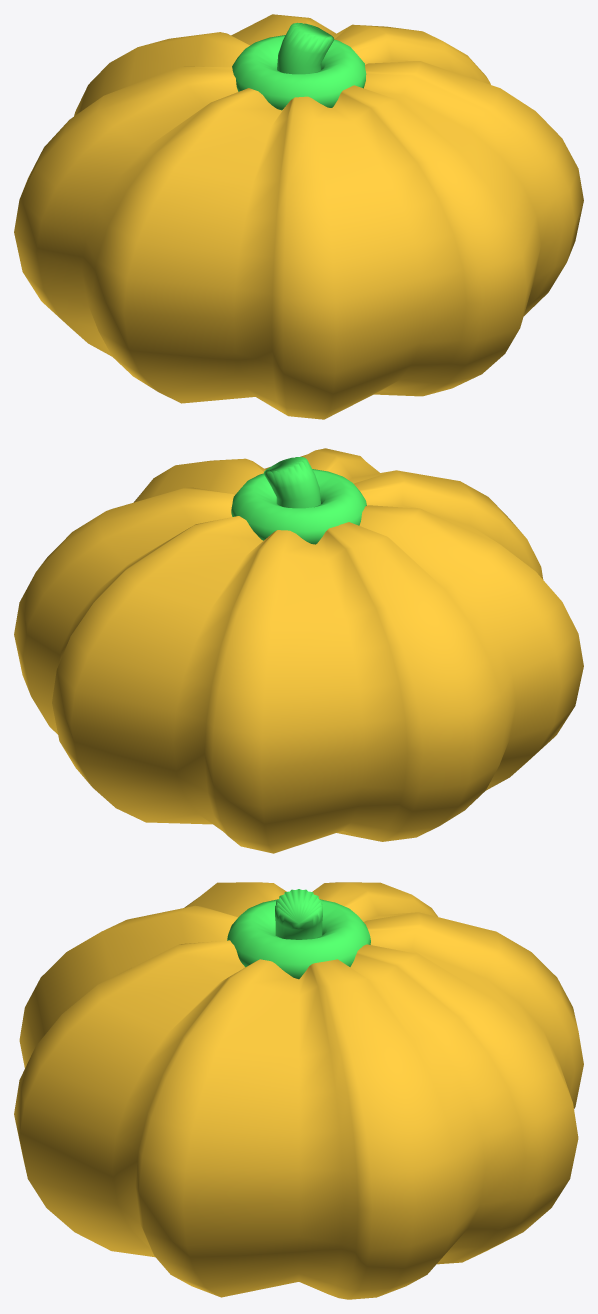
File: nangua.fbx
3 views of the same model, one above another, from view 1: azimuth 30°, elevation 25°; view 2: azimuth 150°, elevation 25°; view 3: azimuth 270°, elevation 25° (orthographic). The views are drawn at different scales.
Parts seen in each view (by area): view 1: pSphere4, pTorus1, pCylinder3; view 2: pSphere4, pTorus1, pCylinder3; view 3: pSphere4, pTorus1, pCylinder3.
Part boxes in pixels (<box>): pSphere4: <box>14,14,583,419</box>; pTorus1: <box>232,35,366,110</box>; pCylinder3: <box>277,22,334,74</box>; pSphere4: <box>14,448,583,853</box>; pTorus1: <box>231,469,366,544</box>; pCylinder3: <box>263,456,320,508</box>; pSphere4: <box>14,882,583,1299</box>; pTorus1: <box>227,899,370,979</box>; pCylinder3: <box>275,889,322,939</box>.
Bounding box in the file's own units: 1.88 × 1.87 × 1.34.
